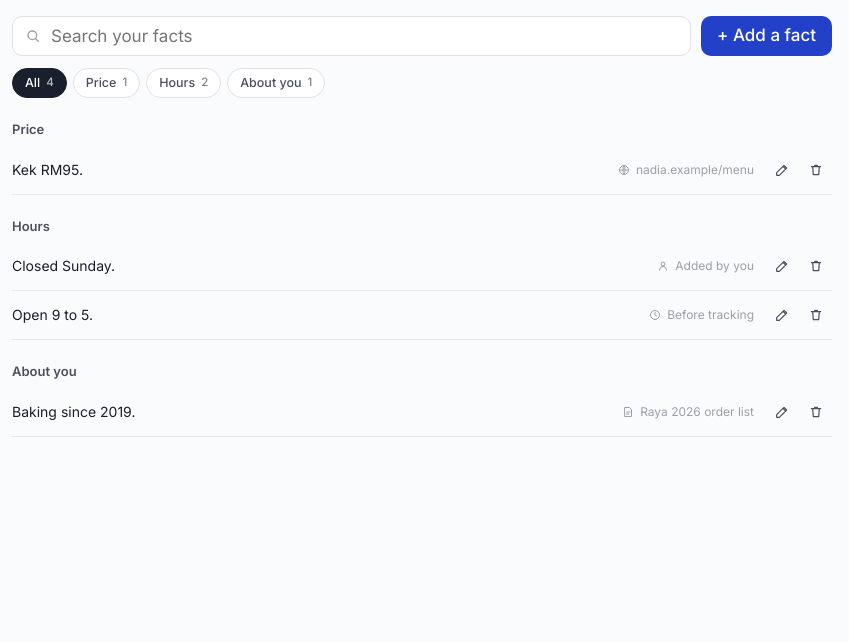
it: FactList › keeps what the owner typed when adding fails, says why, and puts focus back
The image size is (849, 642).
Click the button "+ Add a fact". click: point(766, 36)
box: [701,16,832,56]
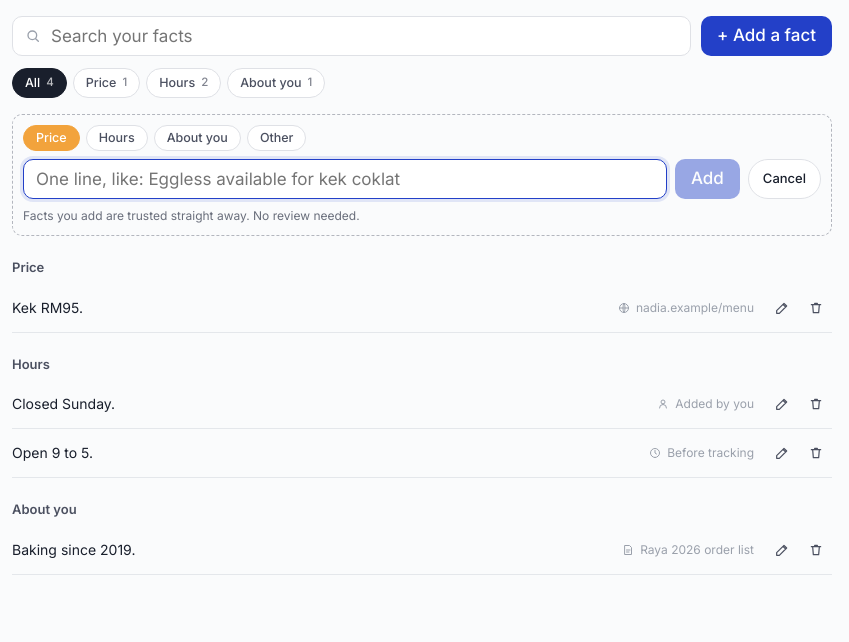
Type "Kek RM95." into the field named "New fact". click: point(345, 179)
box: [23,159,667,199]
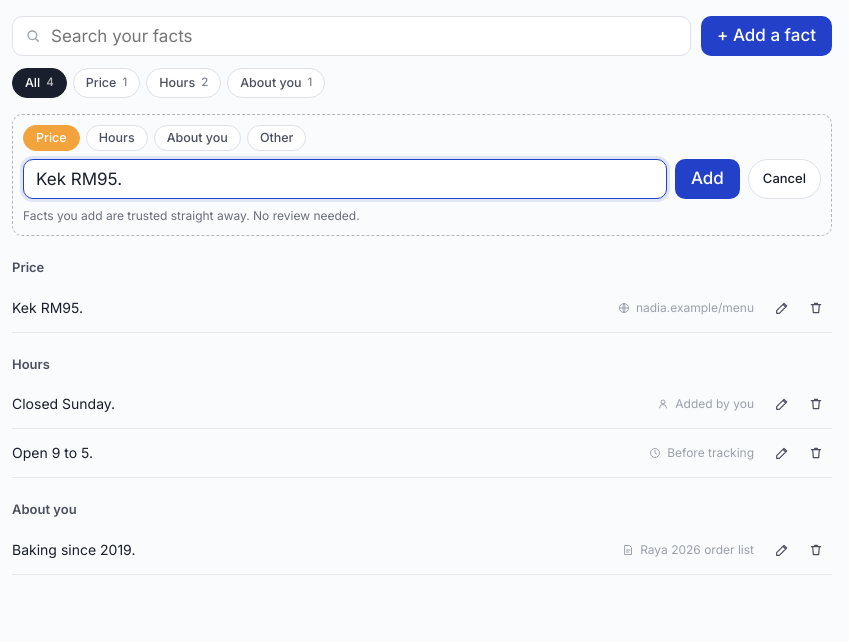
Click the button "Add". click: point(707, 179)
box: [675,159,740,199]
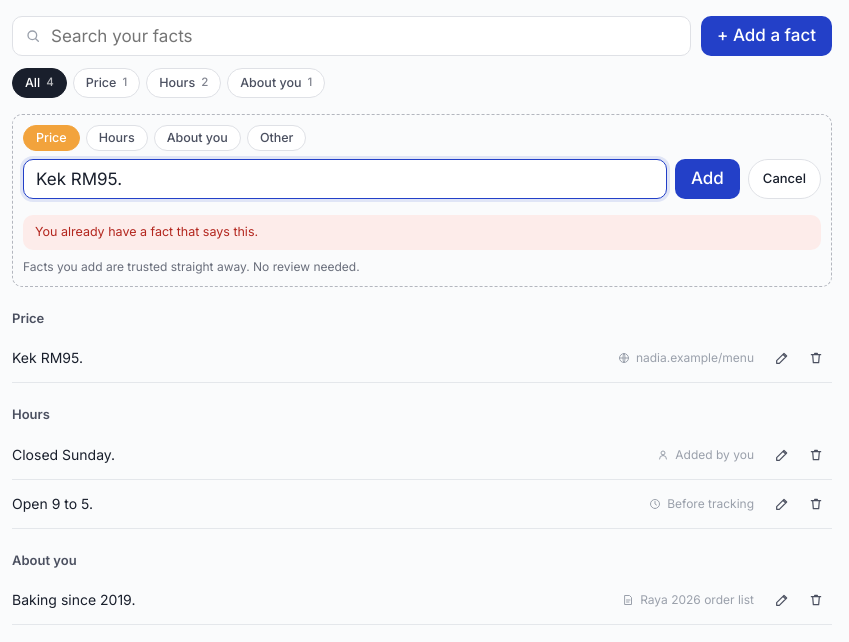
Expected: the message reads "You already have a fact that says this.", [35,224,258,239]
